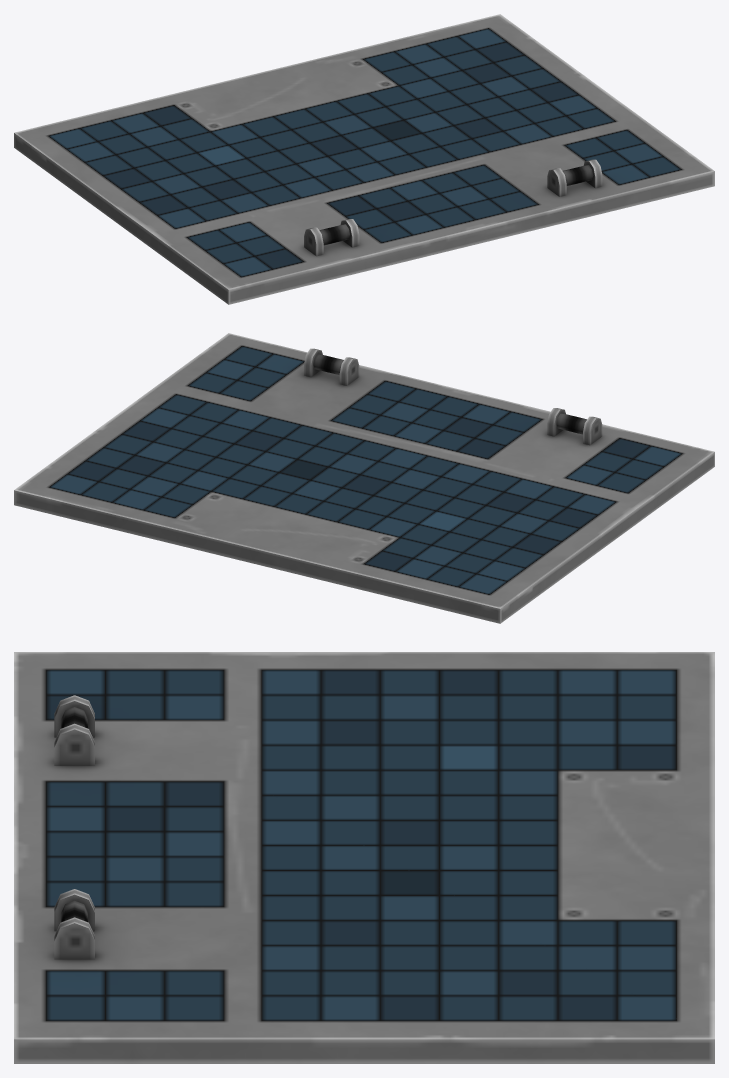
Rendered from 3mv solar.obj.
3 renders of one model, top to bottom at view 1: azimuth 30°, elevation 25°; view 2: azimuth 150°, elevation 25°; view 3: azimuth 270°, elevation 25°, orthographic. The views are drawn at different scales.
Parts seen in each view (by area): view 1: panel; view 2: panel; view 3: panel.
Part boxes in pixels (x1,y1,x2,y2): panel: (14, 14, 714, 304); panel: (14, 333, 714, 623); panel: (14, 652, 714, 1063).
Bounding box in the file's own units: 0.85 × 0.0625 × 0.65.
Materials: 1 (1 with a texture image).
